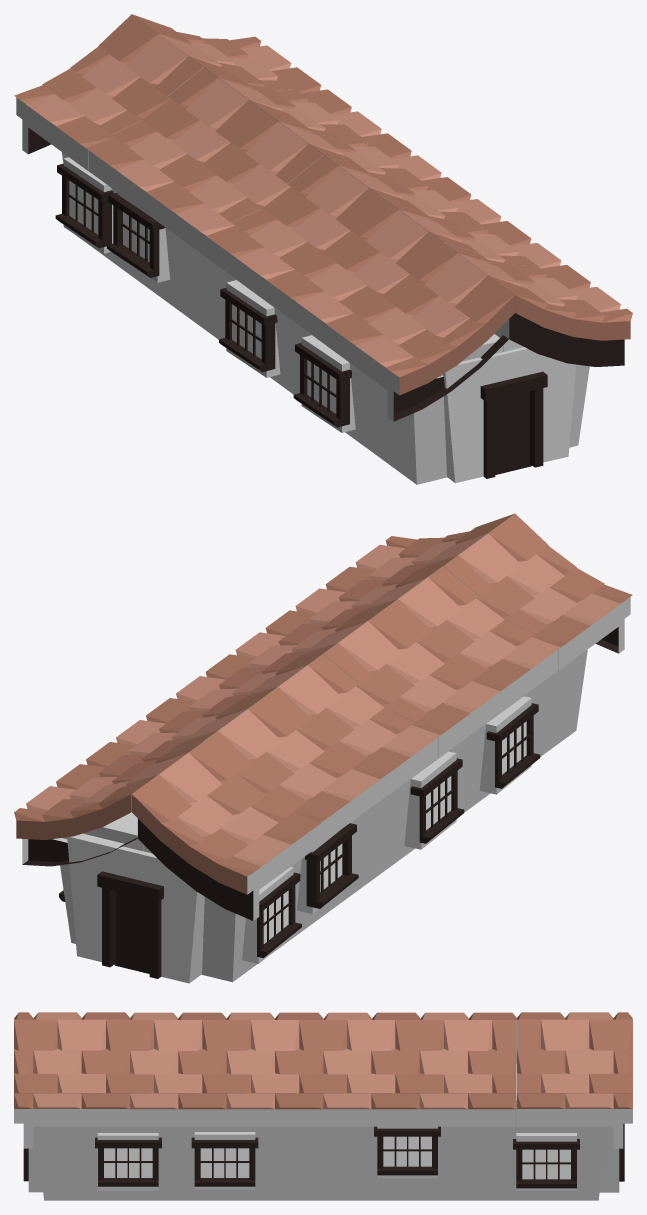
The model's file is tavern.glb.
3 renders of one model, top to bottom at view 1: azimuth 30°, elevation 25°; view 2: azimuth 150°, elevation 25°; view 3: azimuth 270°, elevation 25°, orthographic. The views are drawn at different scales.
Visible parts, largest first — view 1: _cs_roof, _cs_cube, object2, Cube.001, object2.010, object2.014, object2.013, object2.008, object1.010, object1.012, object1.006, object1.008; view 2: _cs_roof, _cs_cube, object2.001, Cube.002, object2.010, object1.010, object1.012, object1.006, object2.014, object2.013, object2.008, object1.008; view 3: _cs_roof, _cs_cube, object1.005, object1.000, object1.014, object1.004, object2.007, object2.006, object2.004, object2.002, object2.001, object2 (+3 smaller).
Part boxes in pixels (x1,y1,x2,y2): _cs_roof: [14, 14, 632, 421]; _cs_cube: [61, 152, 589, 484]; object2: [443, 347, 576, 483]; Cube.001: [495, 391, 531, 474]; object2.010: [107, 192, 165, 277]; object2.014: [293, 343, 351, 427]; object2.013: [219, 288, 277, 372]; object2.008: [55, 163, 113, 248]; object1.010: [226, 280, 280, 377]; object1.012: [301, 335, 355, 432]; object1.006: [63, 157, 113, 253]; object1.008: [117, 193, 170, 282]; _cs_roof: [14, 513, 632, 920]; _cs_cube: [60, 649, 587, 982]; object2.001: [67, 833, 204, 983]; Cube.002: [114, 891, 149, 973]; object2.010: [305, 823, 358, 908]; object1.010: [404, 751, 456, 849]; object1.012: [479, 696, 531, 794]; object1.006: [242, 867, 293, 963]; object2.014: [486, 703, 540, 788]; object2.013: [410, 758, 464, 843]; object2.008: [257, 872, 301, 958]; object1.008: [297, 831, 342, 913]; _cs_roof: [14, 1012, 632, 1148]; _cs_cube: [36, 1063, 606, 1200]; object1.005: [516, 1133, 576, 1190]; object1.000: [194, 1132, 255, 1189]; object1.014: [97, 1133, 158, 1190]; object1.004: [377, 1126, 437, 1178]; object2.007: [513, 1139, 579, 1188]; object2.006: [374, 1126, 440, 1175]; object2.004: [191, 1137, 258, 1186]; object2.002: [95, 1137, 161, 1186]; object2.001: [599, 1123, 624, 1192]; object2: [23, 1126, 42, 1192].
Size of the model in its own units: 2.33 by 1.72 by 6.4.
